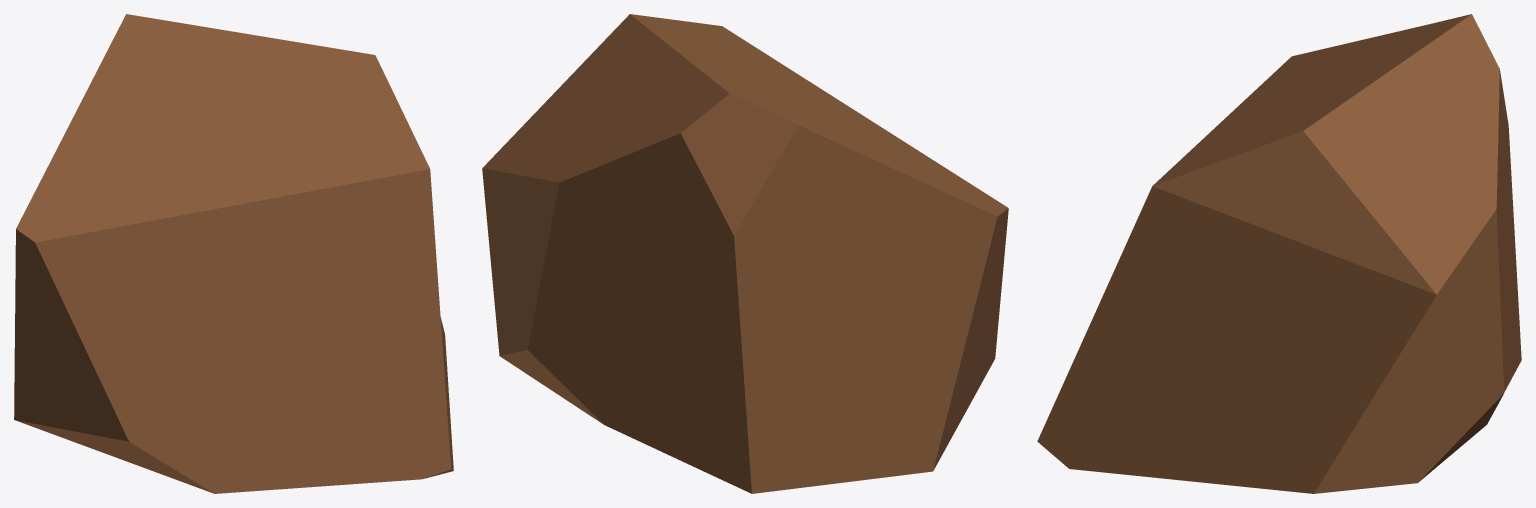
File: stone-small_orange.glb
3 renders of one model, left to right at view 1: azimuth 30°, elevation 25°; view 2: azimuth 150°, elevation 25°; view 3: azimuth 270°, elevation 25°, orthographic. The views are drawn at different scales.
Visible parts, largest first — view 1: stone-small_orange; view 2: stone-small_orange; view 3: stone-small_orange.
Boxes of the visible parts, left/top/right/bottom form: stone-small_orange: left=14, top=14, right=453, bottom=493; stone-small_orange: left=482, top=14, right=1008, bottom=493; stone-small_orange: left=1037, top=14, right=1521, bottom=493.
Size of the model in its own units: 0.6359 by 0.5069 by 0.5837.
Materials: 1 (1 with a texture image).
